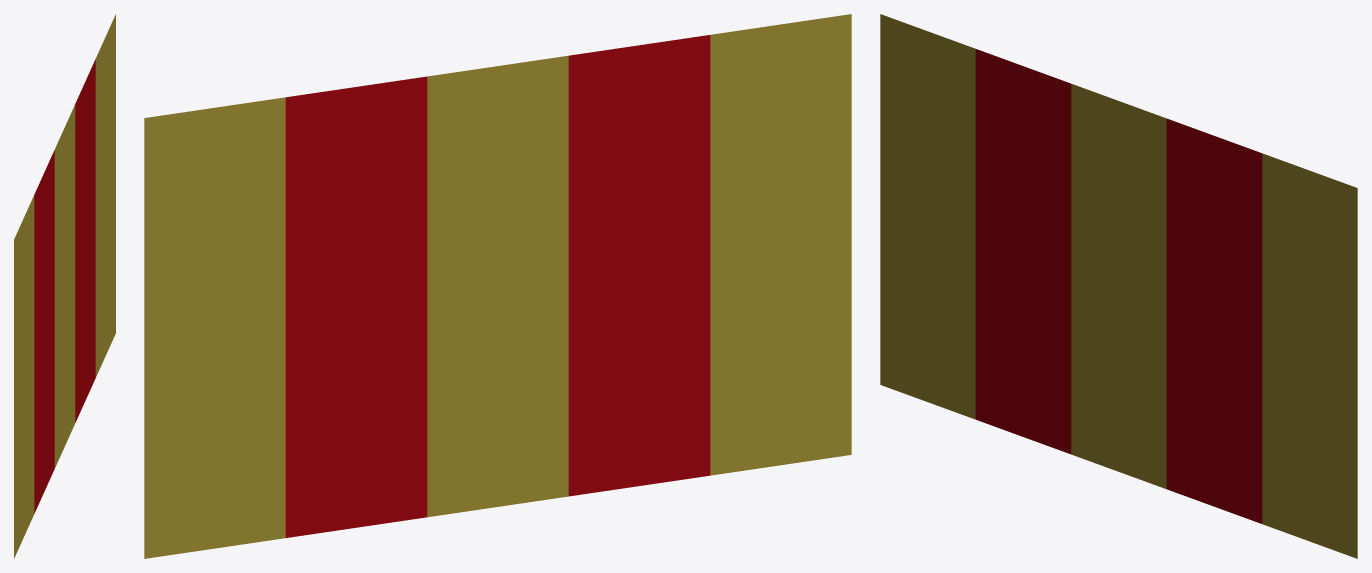
The model's file is plachta.fbx.
3 renders of one model, left to right at view 1: azimuth 30°, elevation 25°; view 2: azimuth 150°, elevation 25°; view 3: azimuth 270°, elevation 25°, orthographic. The views are drawn at different scales.
Visible parts, largest first — view 1: Plane.009; view 2: Plane.009; view 3: Plane.009.
Part boxes in pixels (x1=…): Plane.009: x1=14, y1=14, x2=115, y2=558; Plane.009: x1=144, y1=14, x2=851, y2=558; Plane.009: x1=880, y1=14, x2=1357, y2=558.
Size of the model in its own units: 1298 by 1289 by 1503.
